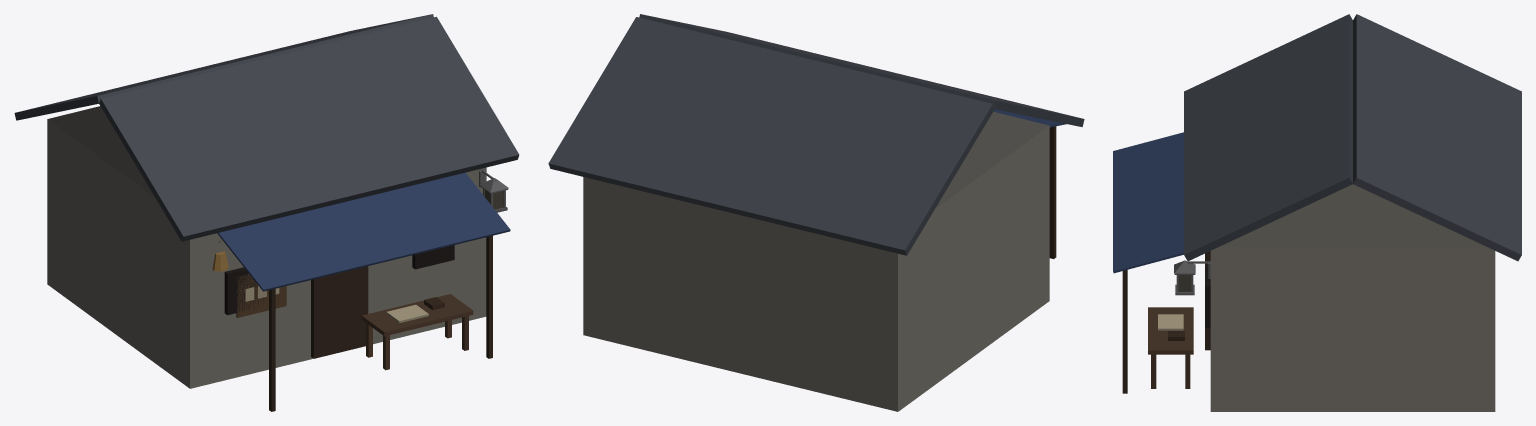
Rendered from walk_any_harbour.glb.
3 renders of one model, left to right at view 1: azimuth 30°, elevation 25°; view 2: azimuth 150°, elevation 25°; view 3: azimuth 270°, elevation 25°, orthographic. The views are drawn at different scales.
Visible parts, largest first — view 1: walk_any_harbour, walk_any_harbour_roof; view 2: walk_any_harbour, walk_any_harbour_roof; view 3: walk_any_harbour, walk_any_harbour_roof.
Part boxes in pixels (x1,y1,x2,y2): walk_any_harbour: [47, 106, 510, 411]; walk_any_harbour_roof: [14, 14, 519, 241]; walk_any_harbour: [583, 109, 1066, 411]; walk_any_harbour_roof: [548, 14, 1084, 255]; walk_any_harbour: [1113, 132, 1495, 411]; walk_any_harbour_roof: [1184, 14, 1521, 261].
Size of what is drawn, in the model's own units: 6.8 by 4.72 by 7.18.
Materials: 2 (2 with a texture image).
